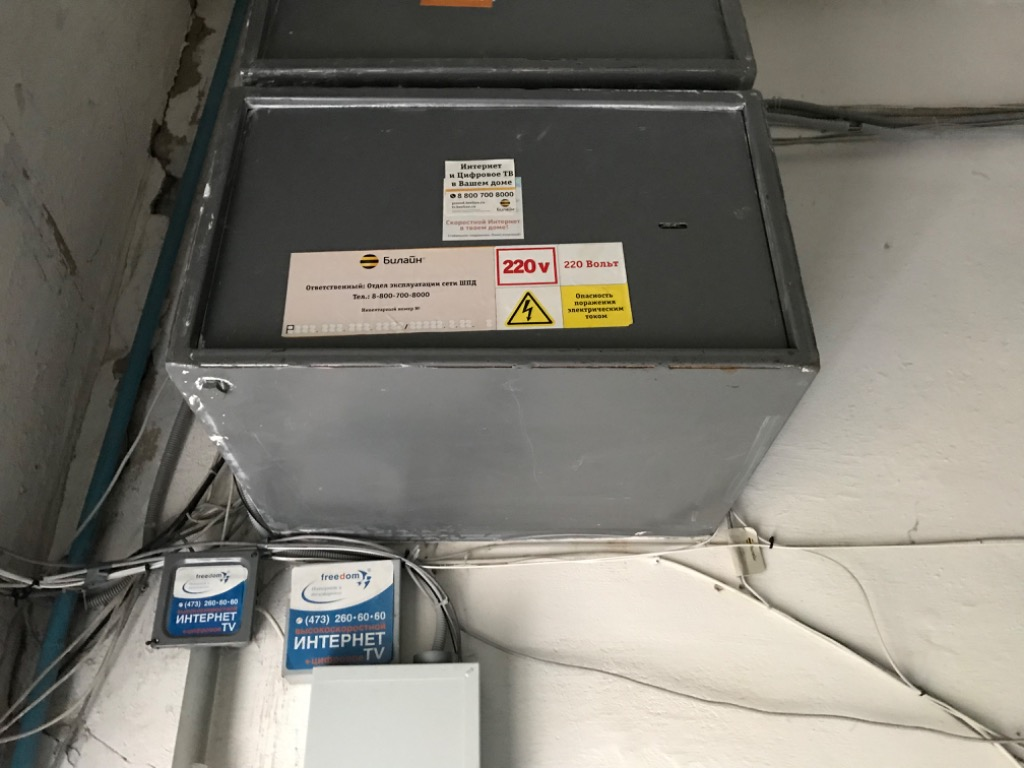e2-6u: (146, 80, 828, 378)
